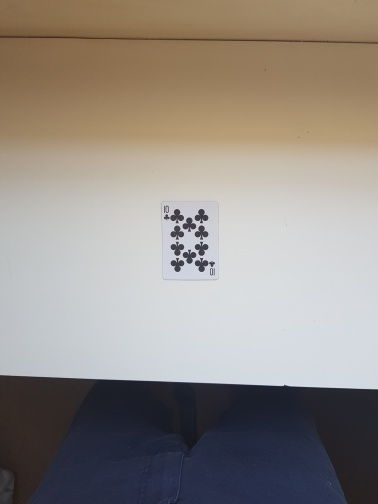ten: (160, 201, 220, 281)
